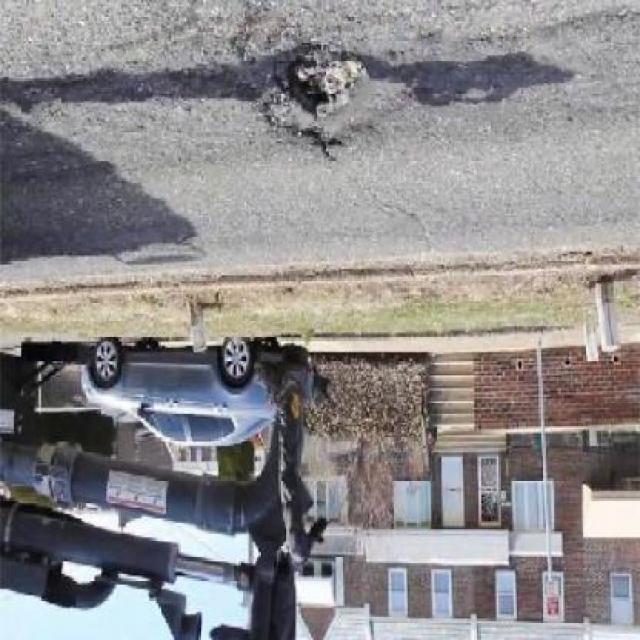pothole1: (254, 38, 380, 158)
